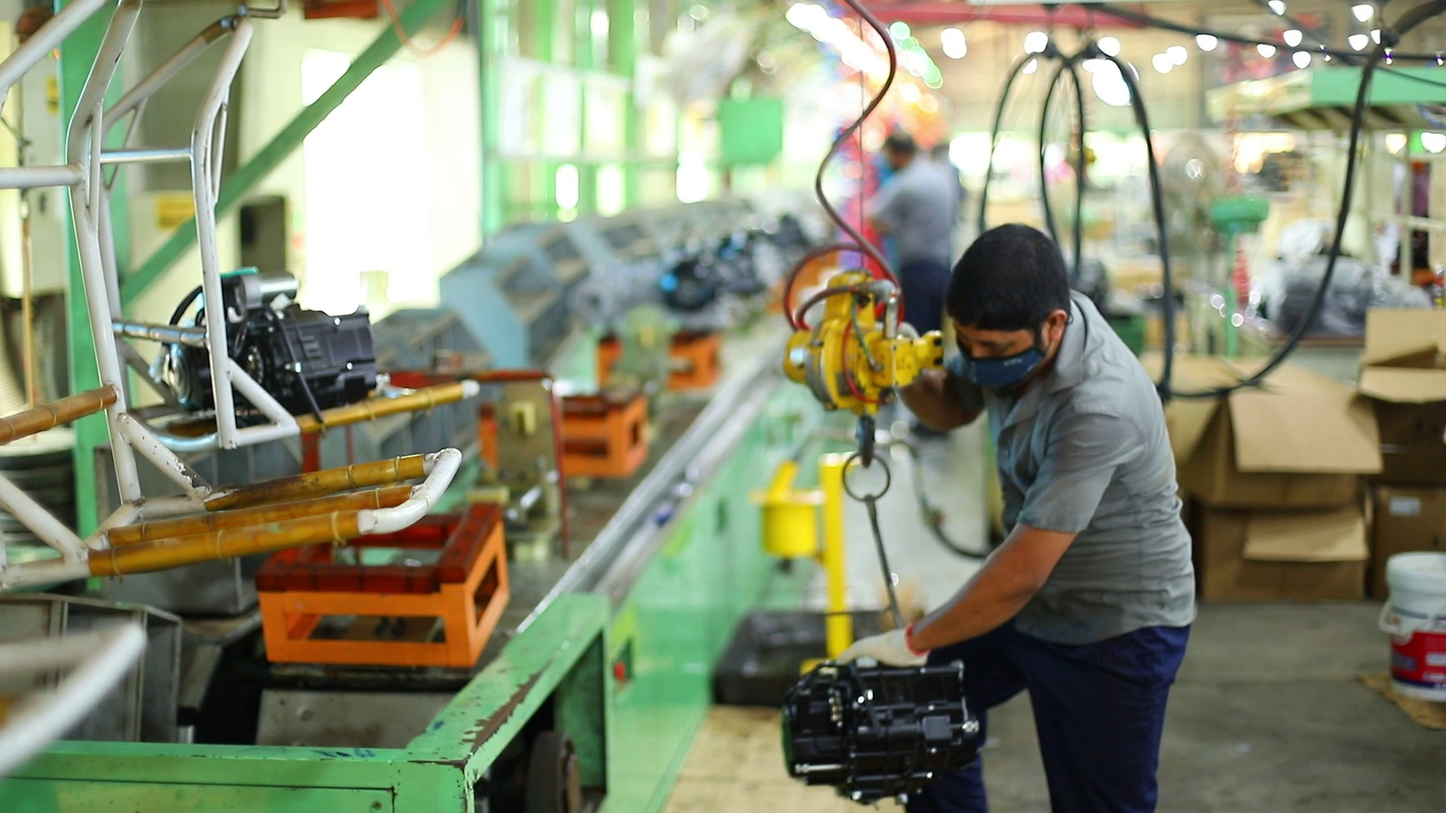mask: (944, 337, 1054, 391)
person: (821, 223, 1197, 813), (862, 130, 962, 339)
